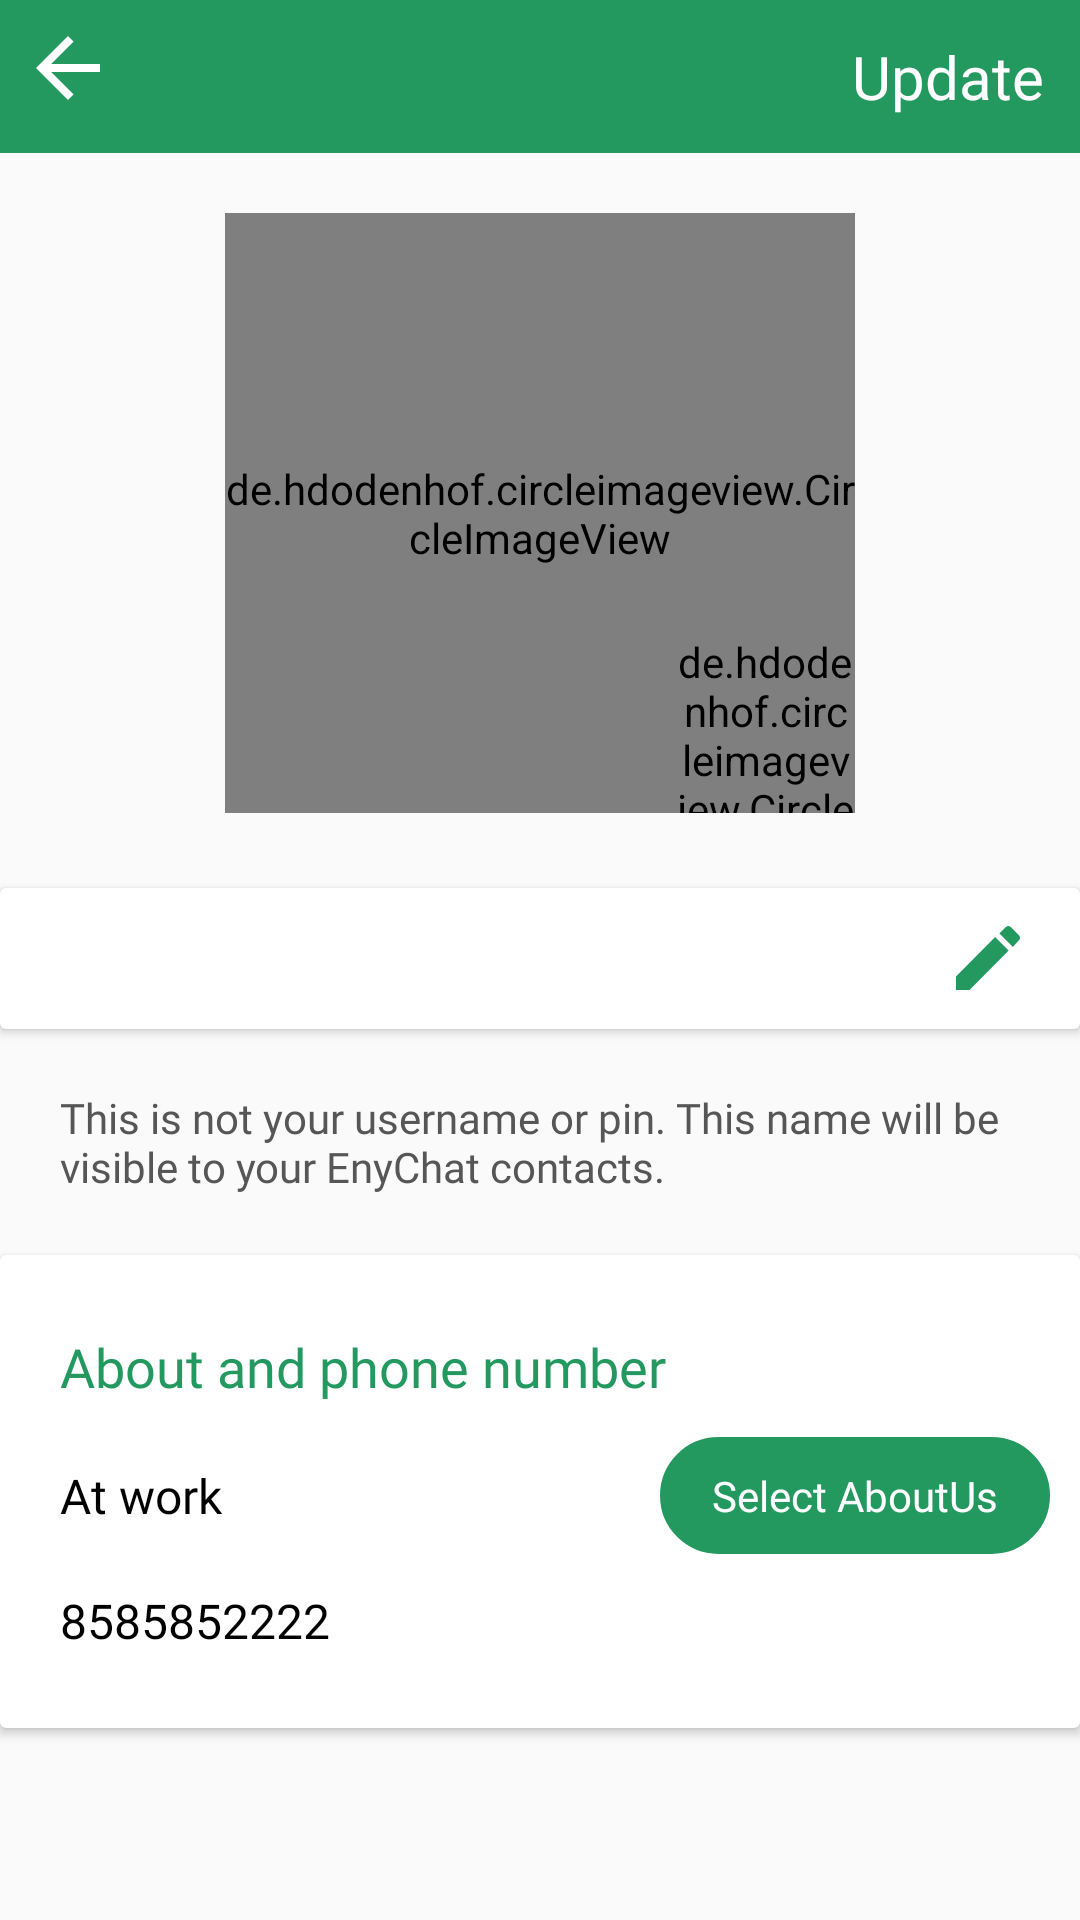

Icon bounding boxes for this 1080×1920 phone screenshot, format (x1, y1, x2, y2):
back arrow: (36, 36, 100, 100)
